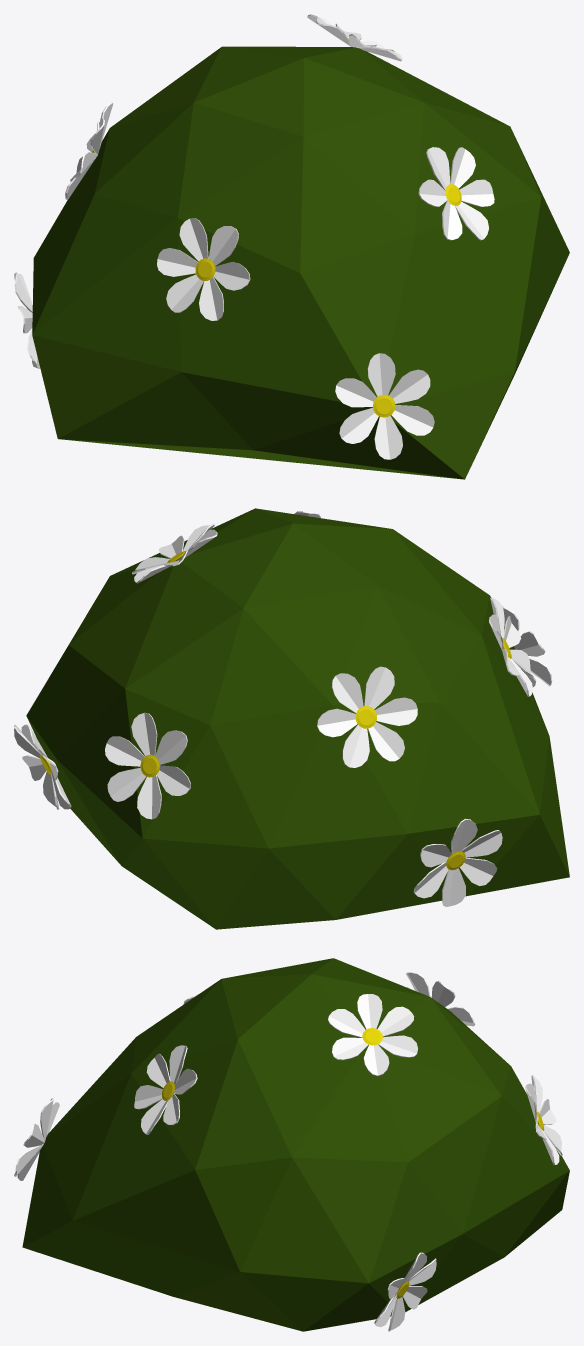
File: flower_bush.fbx
3 views of the same model, one above another, from view 1: azimuth 30°, elevation 25°; view 2: azimuth 150°, elevation 25°; view 3: azimuth 270°, elevation 25° (orthographic). The views are drawn at different scales.
Parts seen in each view (by area): view 1: flower_bush; view 2: flower_bush; view 3: flower_bush.
Boxes of the visible parts, <box> form: flower_bush: <box>14,14,569,479</box>; flower_bush: <box>14,508,569,929</box>; flower_bush: <box>14,958,569,1331</box>.
Bounding box in the file's own units: 2749 × 1603 × 2938.
